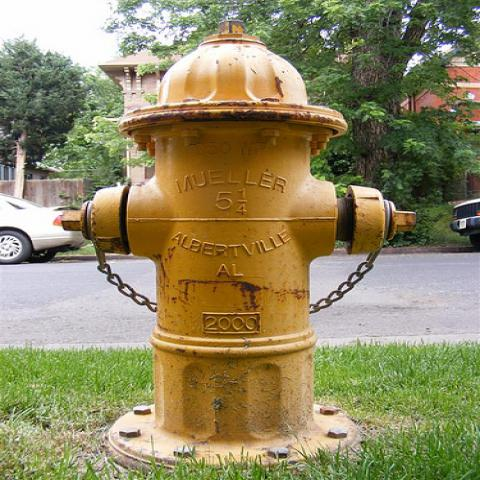car: (0, 193, 80, 261), (450, 196, 479, 254)
